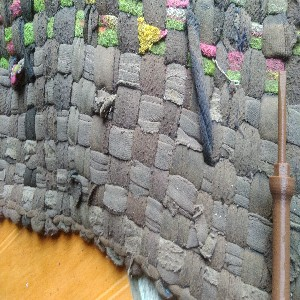obeng: (268, 69, 295, 300)
